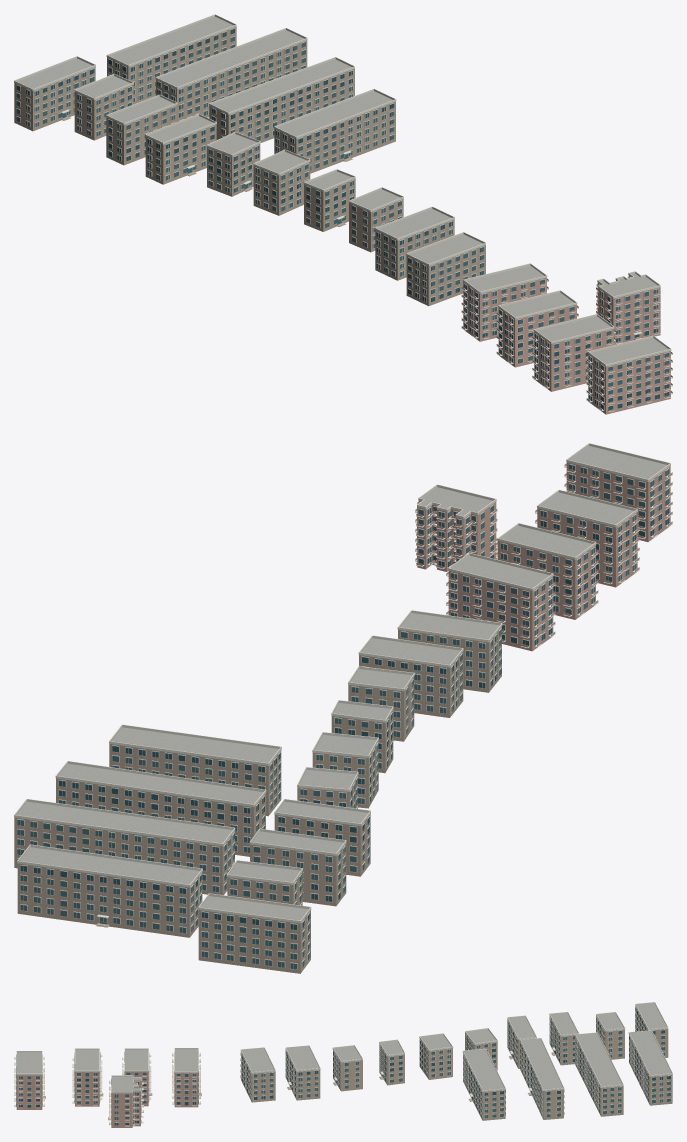
File: chunk-n3-n1.glb
The picture shows the model from 3 angles, top to bottom: view 1: azimuth 30°, elevation 25°; view 2: azimuth 150°, elevation 25°; view 3: azimuth 270°, elevation 25°; orthographic projection. The views are drawn at different scales.
Parts seen in each view (by area): view 1: chunk-n3-n1; view 2: chunk-n3-n1; view 3: chunk-n3-n1.
Part boxes in pixels (x1,y1,x2,y2): chunk-n3-n1: (14,14,672,414); chunk-n3-n1: (14,443,672,973); chunk-n3-n1: (14,1002,672,1127).
Size of the model in its own units: 120 by 24.17 by 350.
Materials: 6 (2 with a texture image).
